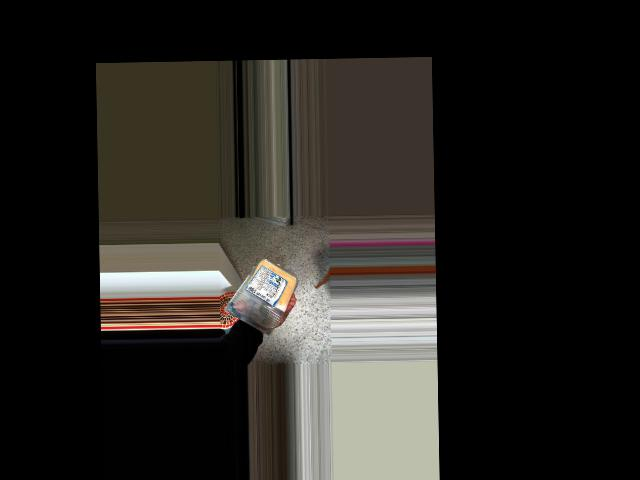cheese: (230, 255, 289, 325)
